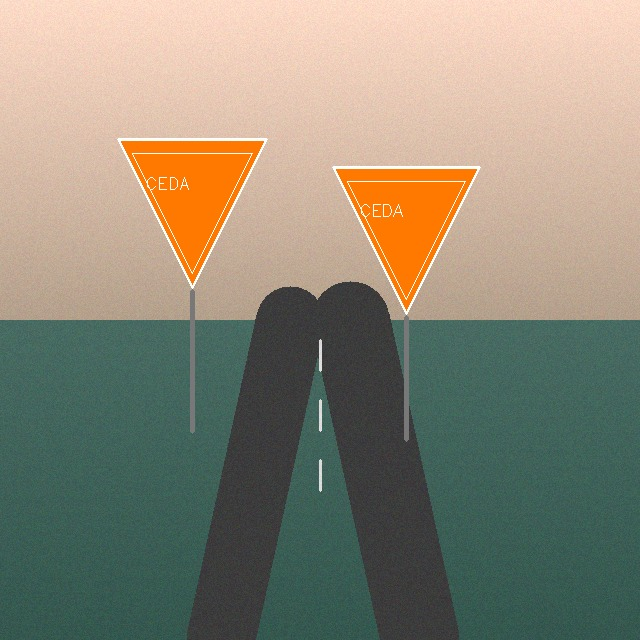ceda_el_paso: (114, 135, 270, 291), (329, 163, 483, 317)
